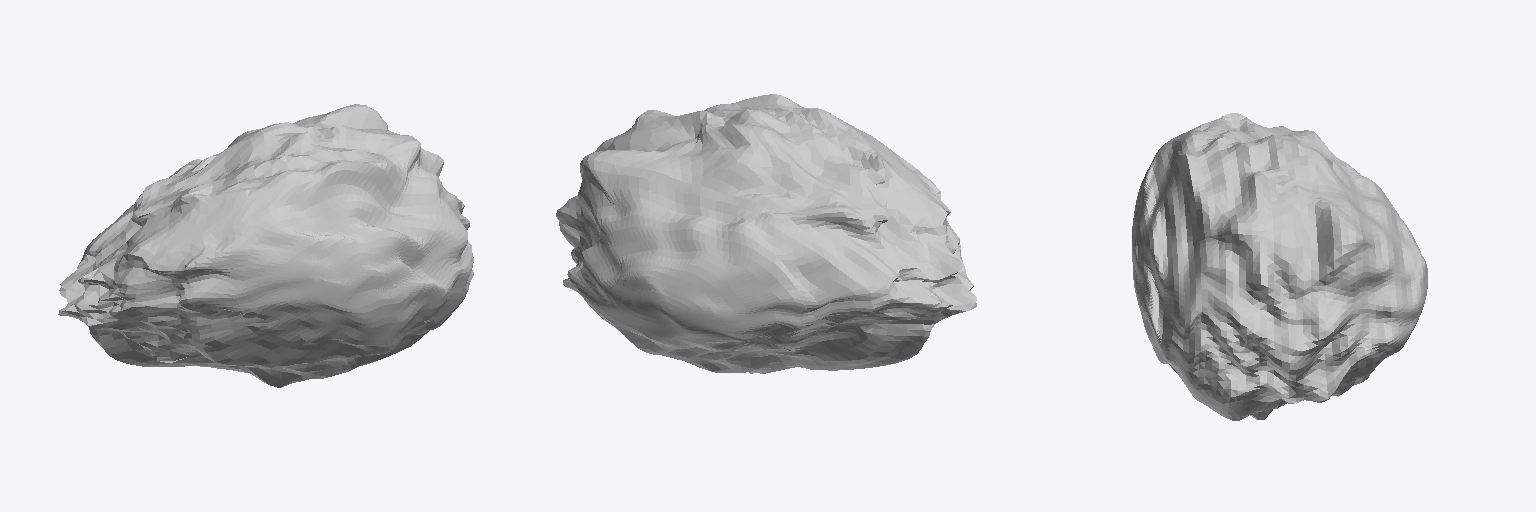
The model's file is asteroid.obj.
The picture shows the model from 3 angles: view 1: azimuth 30°, elevation 25°; view 2: azimuth 150°, elevation 25°; view 3: azimuth 270°, elevation 25°; orthographic projection.
Bounding box in the file's own units: 11.26 × 6.68 × 7.12.